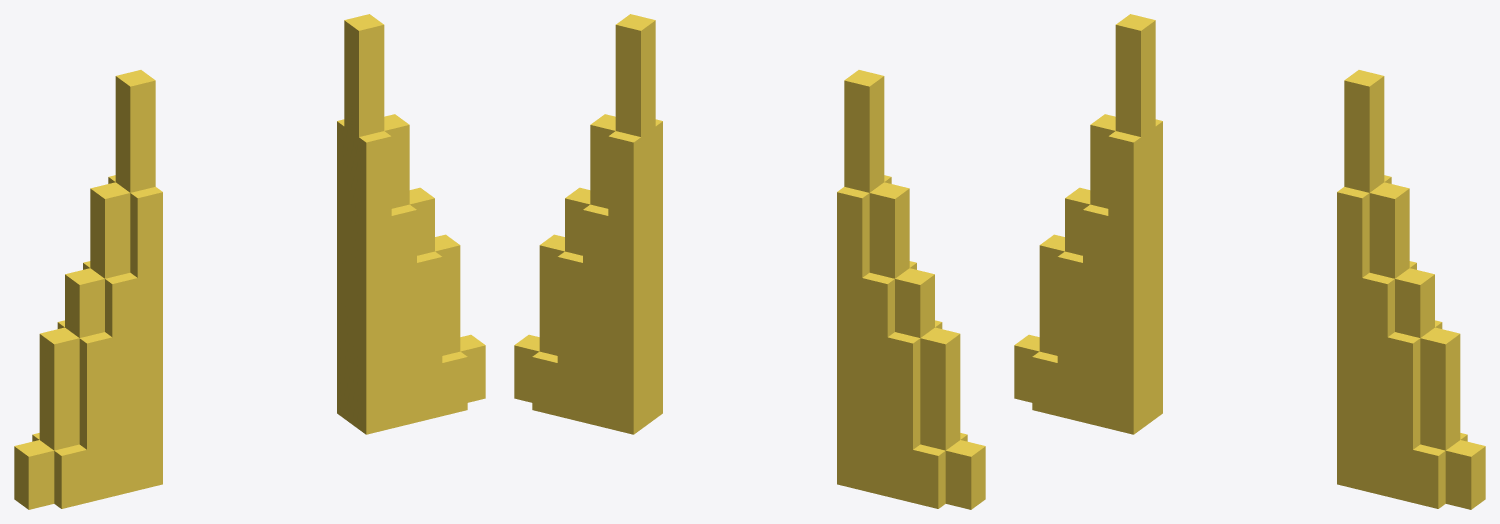
The model's file is rocket_fins_2.fbx.
3 renders of one model, left to right at view 1: azimuth 30°, elevation 25°; view 2: azimuth 150°, elevation 25°; view 3: azimuth 330°, elevation 25°, orthographic.
Visible parts, largest first — view 1: generated; view 2: generated; view 3: generated.
Part boxes in pixels (left/top/right/bottom): generated: left=14, top=14, right=485, bottom=509; generated: left=514, top=14, right=985, bottom=509; generated: left=1014, top=14, right=1485, bottom=509.
Bounding box in the file's own units: 180 × 150 × 20.
